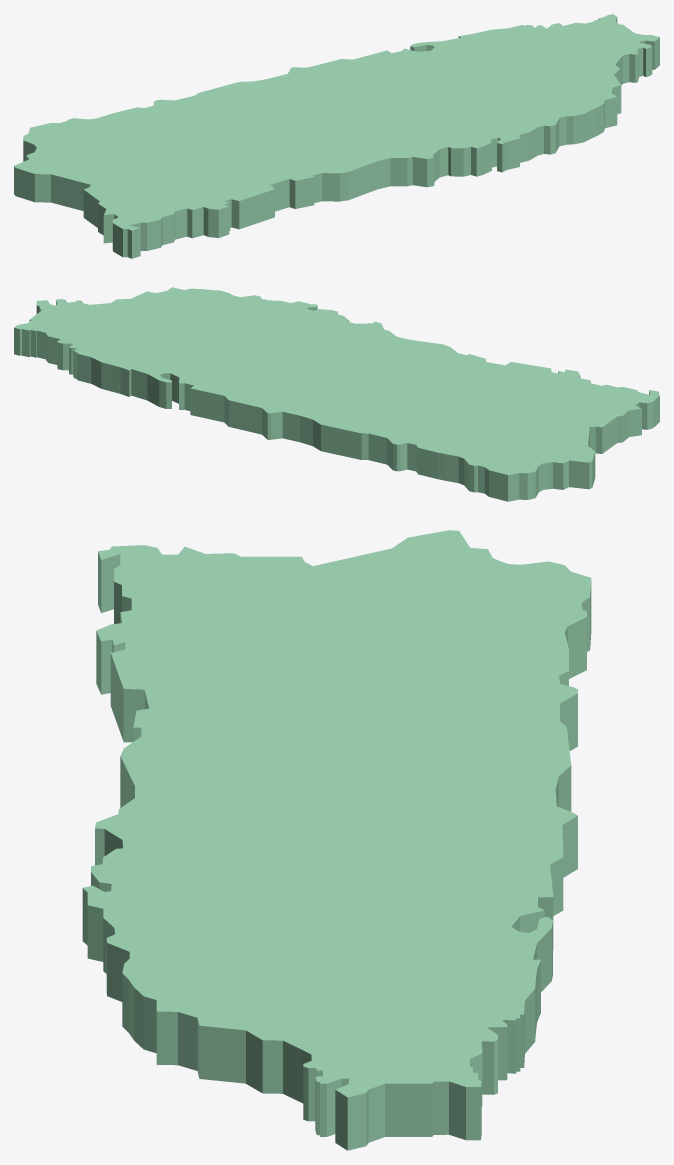
File: Puerto Rico.gltf
3 views of the same model, one above another, from view 1: azimuth 30°, elevation 25°; view 2: azimuth 150°, elevation 25°; view 3: azimuth 270°, elevation 25° (orthographic). The views are drawn at different scales.
Visible parts, largest first — view 1: Plane; view 2: Plane; view 3: Plane.
Part boxes in pixels (x1,y1,x2,y2): Plane: (14,14,659,258); Plane: (14,287,659,501); Plane: (82,530,591,1150).
Size of the model in its own units: 3.41 by 0.1492 by 1.29.
